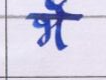ai_matra: (45, 0, 72, 14)
